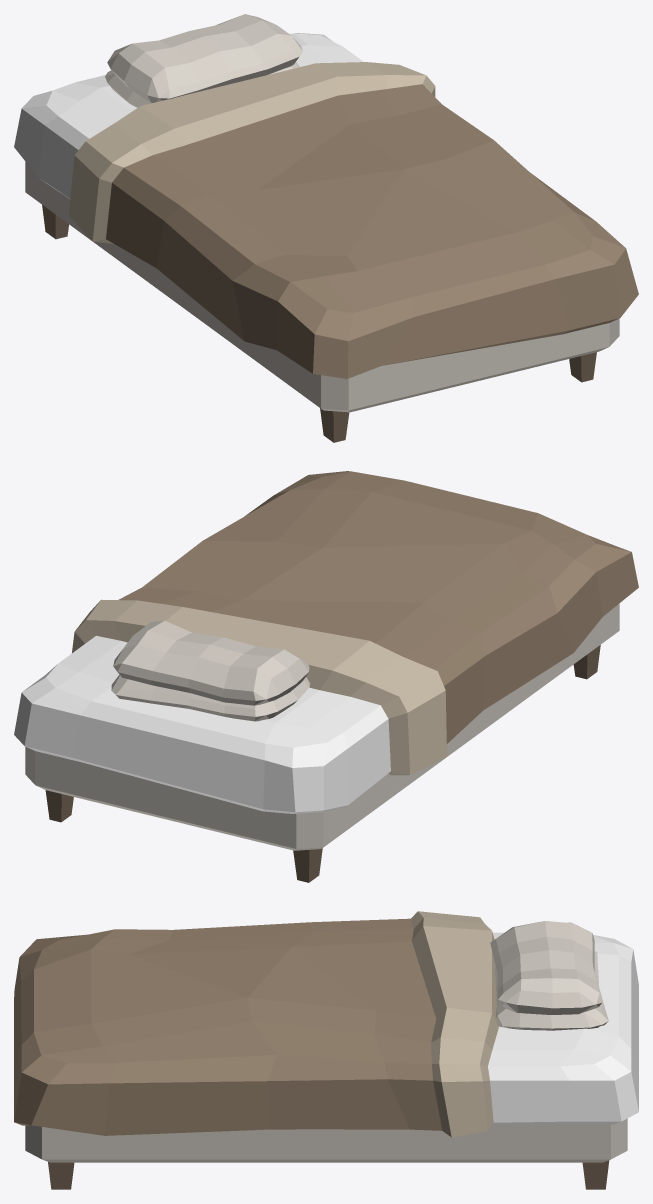
The model's file is SM_Prop_Bed_Single_01.fbx.
3 views of the same model, one above another, from view 1: azimuth 30°, elevation 25°; view 2: azimuth 150°, elevation 25°; view 3: azimuth 270°, elevation 25° (orthographic). The views are drawn at different scales.
Parts seen in each view (by area): view 1: SM_Prop_Bed_Single_01; view 2: SM_Prop_Bed_Single_01; view 3: SM_Prop_Bed_Single_01.
Part boxes in pixels (box(x1,y1,x2,y2)): SM_Prop_Bed_Single_01: box(14, 14, 638, 442); SM_Prop_Bed_Single_01: box(14, 471, 638, 882); SM_Prop_Bed_Single_01: box(14, 911, 638, 1189).
Size of the model in its own units: 169 by 85.11 by 269.
